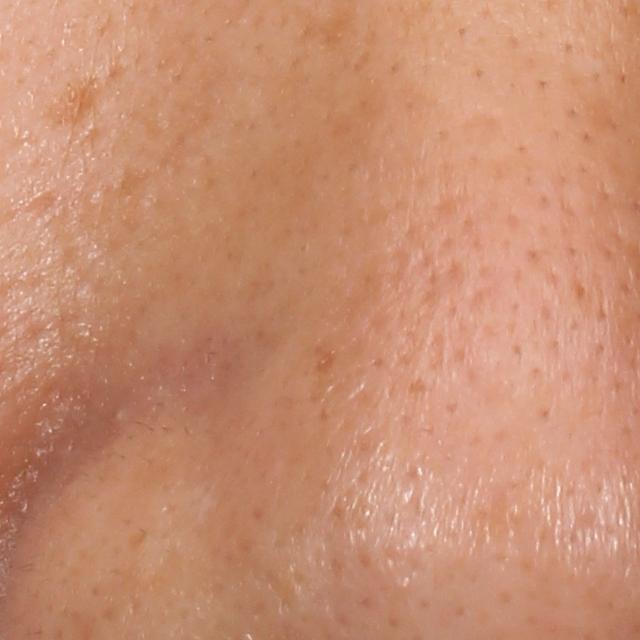melasma: (52, 77, 103, 129)
